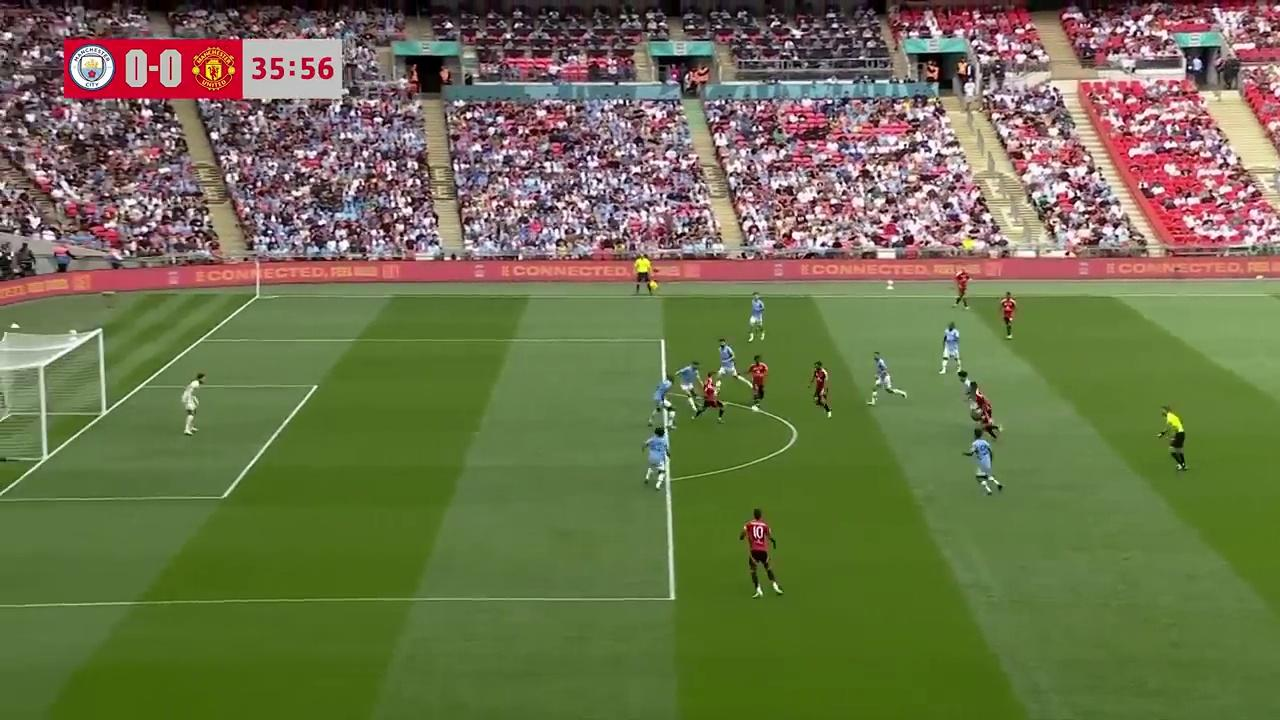player: (739, 507, 783, 598), (962, 428, 1002, 495), (867, 351, 907, 405), (692, 369, 726, 422), (971, 382, 1002, 439), (641, 424, 668, 489), (674, 361, 703, 420), (648, 375, 677, 431), (181, 372, 204, 435), (743, 354, 768, 410), (808, 361, 831, 417), (959, 370, 986, 417), (939, 321, 961, 375), (717, 337, 742, 379), (747, 292, 765, 341), (998, 292, 1017, 338), (953, 270, 970, 309)
referee: (1156, 405, 1187, 471), (632, 255, 657, 295)
